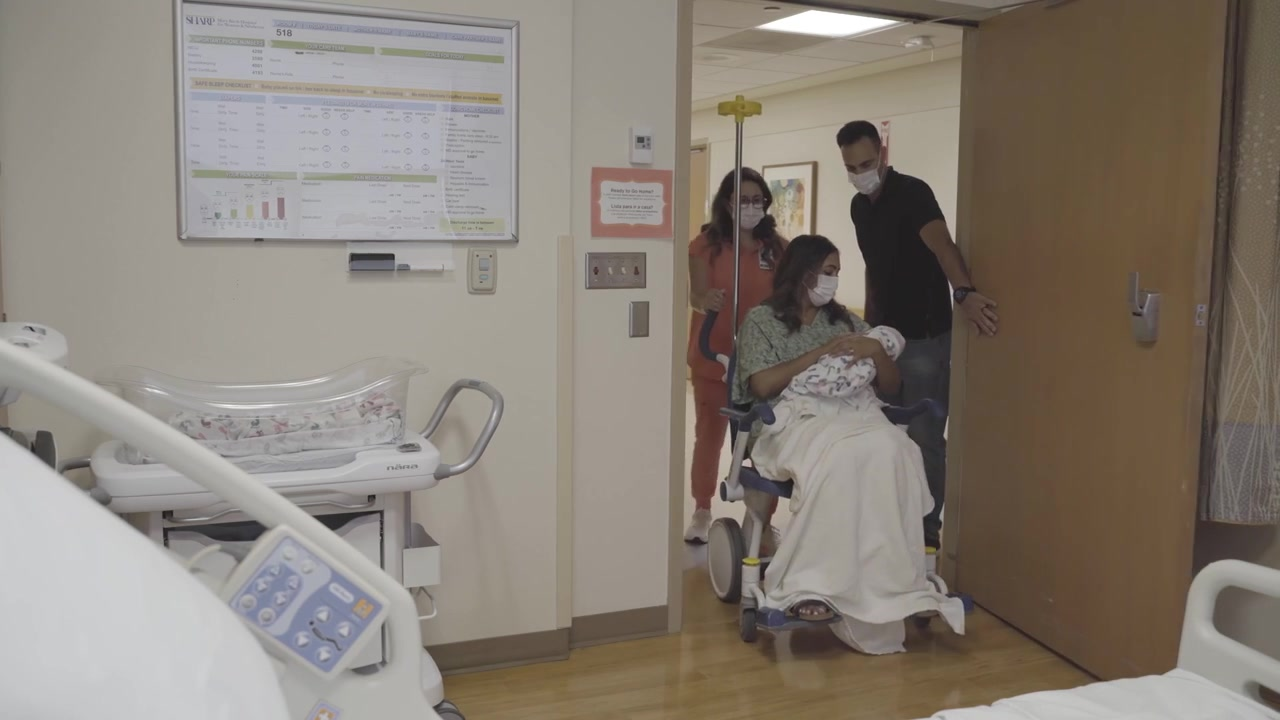bedrail: (1, 338, 446, 720)
curtain: (1203, 1, 1276, 532)
door_handle: (1122, 269, 1163, 345)
foot_board: (1177, 560, 1280, 720)
hospital_bed: (1, 338, 1276, 720)
iv_pole: (710, 94, 766, 350)
light_switch: (586, 251, 647, 289)
patient: (741, 233, 968, 648)
staff: (687, 167, 798, 547)
visitor: (830, 122, 1000, 589)
